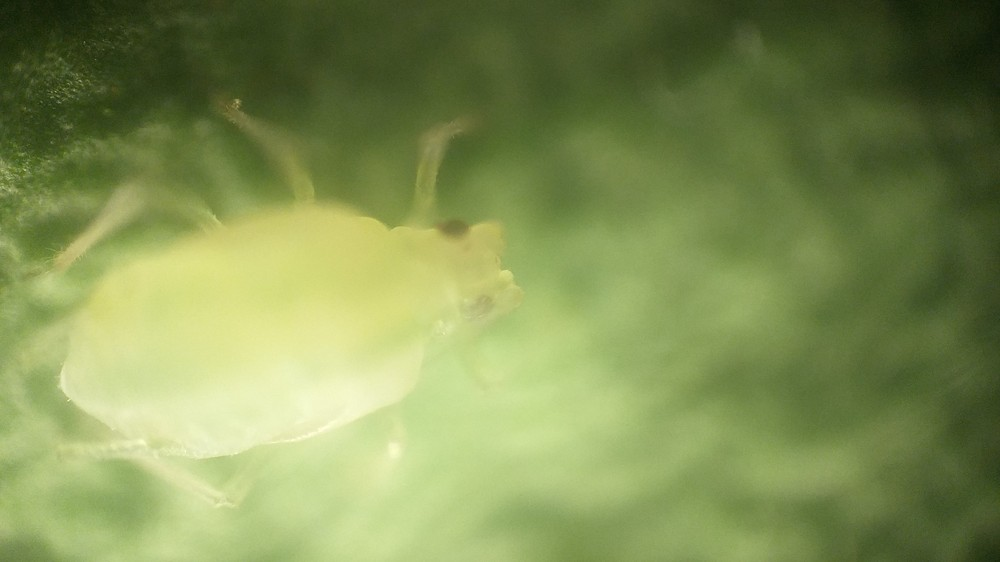Pulgon: (44, 92, 551, 535)
